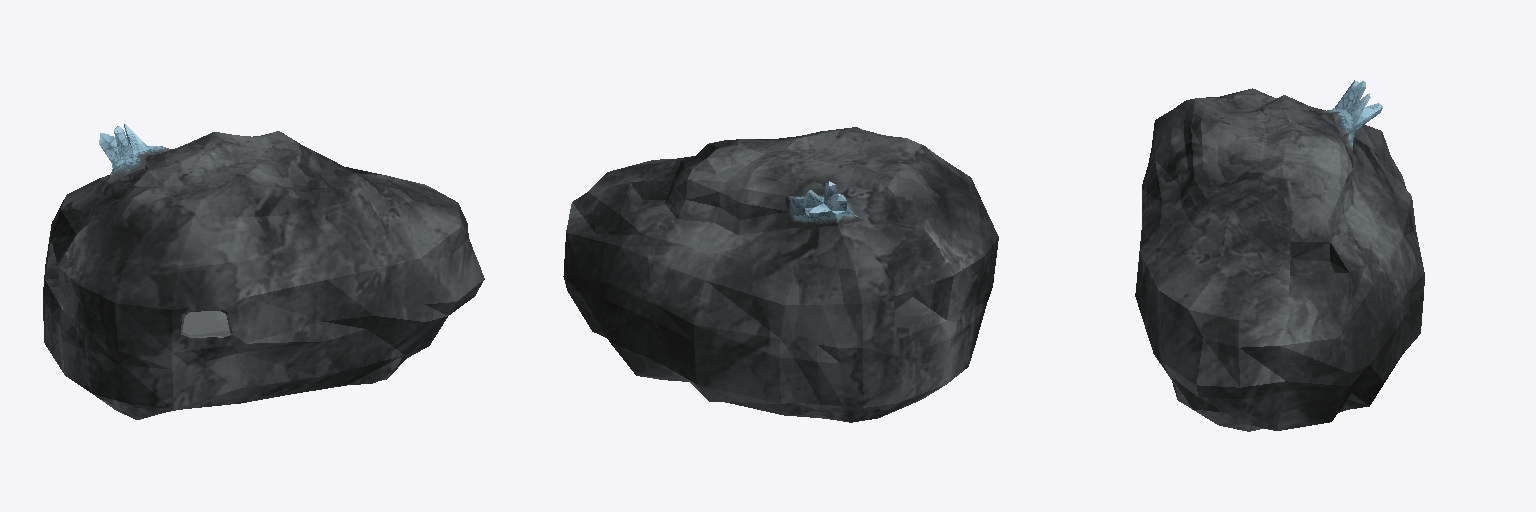
3 renders of one model, left to right at view 1: azimuth 30°, elevation 25°; view 2: azimuth 150°, elevation 25°; view 3: azimuth 270°, elevation 25°, orthographic.
Parts seen in each view (by area): view 1: Sphere_Sphere.001; view 2: Sphere_Sphere.001; view 3: Sphere_Sphere.001.
Boxes of the visible parts, x1,y1,x2,y2 form: Sphere_Sphere.001: [43, 124, 484, 419]; Sphere_Sphere.001: [563, 127, 998, 422]; Sphere_Sphere.001: [1135, 80, 1424, 431].
Size of the model in its own units: 2.7 by 1.66 by 1.72.
1 materials, 1 textured.